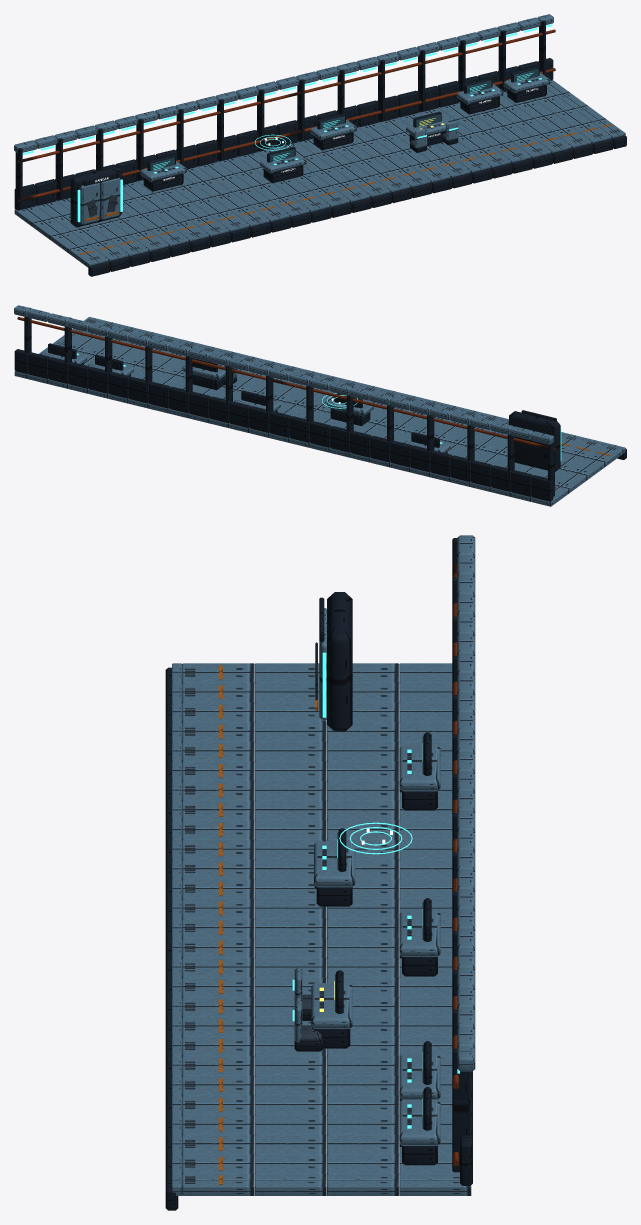
The model's file is colossal-ponte.glb.
The picture shows the model from 3 angles, top to bottom: view 1: azimuth 30°, elevation 25°; view 2: azimuth 150°, elevation 25°; view 3: azimuth 270°, elevation 25°; orthographic projection. The views are drawn at different scales.
Parts seen in each view (by area): view 1: Chapa modular do piso, Longarina frontal, Tubulação longitudinal, Luz embutida, Tela, Fenda de ventilação, Sinalização do corredor; view 2: Chapa modular do piso, Longarina frontal, Tubulação longitudinal, Fenda de ventilação; view 3: Chapa modular do piso, Longarina frontal, Fenda de ventilação, Sinalização do corredor, Luz embutida, Tubulação longitudinal.
Part boxes in pixels (x1,y1,x2,y2): Chapa modular do piso: (14,14,625,267); Longarina frontal: (14,20,626,276); Tubulação longitudinal: (17,29,555,201); Luz embutida: (22,24,552,222); Tela: (150,69,538,170); Fenda de ventilação: (87,79,619,260); Sinalização do corredor: (80,124,611,254); Chapa modular do piso: (14,305,625,506); Longarina frontal: (14,307,626,501); Tubulação longitudinal: (17,317,555,489); Fenda de ventilação: (86,319,616,449); Chapa modular do piso: (172,535,475,1195); Longarina frontal: (165,538,472,1210); Fenda de ventilação: (185,642,411,1183); Sinalização do corredor: (219,665,317,1184); Luz embutida: (292,652,459,1128); Tubulação longitudinal: (453,563,458,1166).
Size of the model in its own units: 480 by 65.5 by 120.
Materials: 9 (5 with a texture image).
